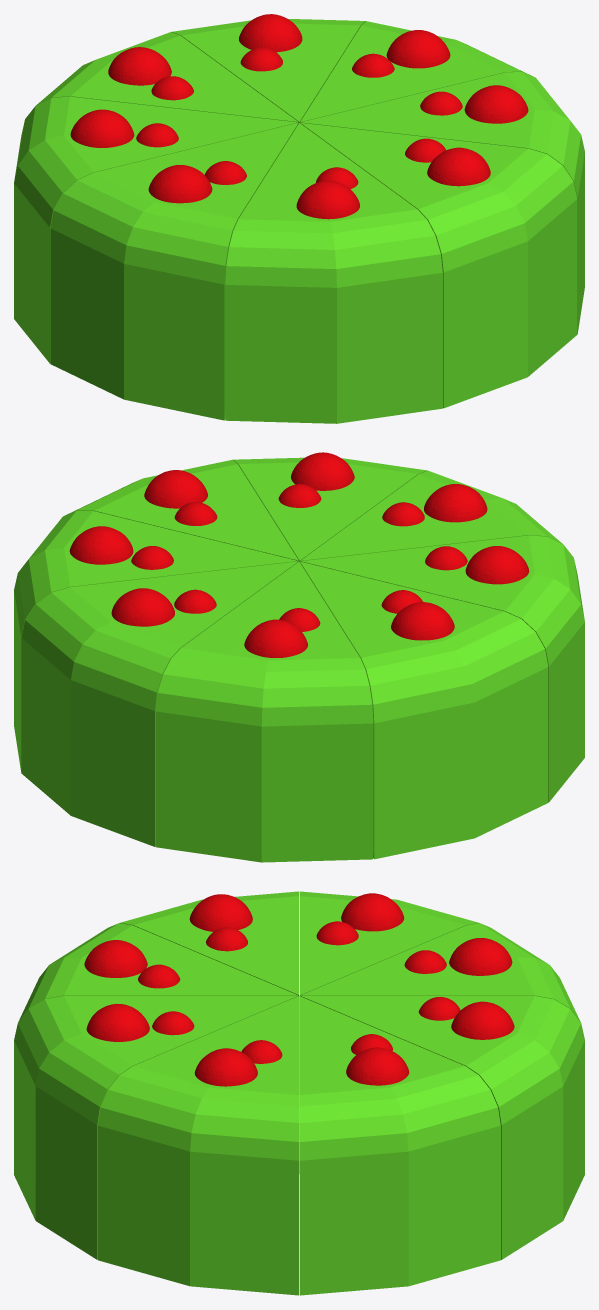
The model's file is cake2.fbx.
3 views of the same model, one above another, from view 1: azimuth 30°, elevation 25°; view 2: azimuth 150°, elevation 25°; view 3: azimuth 270°, elevation 25° (orthographic).
Visible parts, largest first — view 1: 1.006, 1.005, 1.009, 1.021, 1.012, 1.022, 1.015, 1.020; view 2: 1.022, 1.021, 1.020, 1.005, 1.015, 1.006, 1.012, 1.009; view 3: 1.015, 1.012, 1.009, 1.020, 1.006, 1.022, 1.005, 1.021.
Boxes of the visible parts, <box> form: 1.006: <box>225,123,442,423</box>; 1.005: <box>50,123,298,420</box>; 1.009: <box>300,122,577,408</box>; 1.021: <box>14,96,297,363</box>; 1.012: <box>301,72,584,334</box>; 1.022: <box>36,32,298,122</box>; 1.015: <box>300,21,535,122</box>; 1.020: <box>171,14,365,124</box>; 1.022: <box>155,562,373,862</box>; 1.021: <box>300,561,548,859</box>; 1.020: <box>21,561,298,846</box>; 1.005: <box>301,535,584,802</box>; 1.015: <box>14,510,297,771</box>; 1.006: <box>301,470,570,560</box>; 1.012: <box>65,459,298,561</box>; 1.009: <box>233,452,427,562</box>; 1.015: <box>299,996,500,1295</box>; 1.012: <box>98,996,298,1295</box>; 1.009: <box>14,995,297,1259</box>; 1.020: <box>300,996,584,1259</box>; 1.006: <box>18,923,297,1022</box>; 1.022: <box>300,923,584,1039</box>; 1.005: <box>120,891,299,1173</box>; 1.021: <box>300,891,479,996</box>.
Bounding box in the file's own units: 200 × 77.69 × 200.
